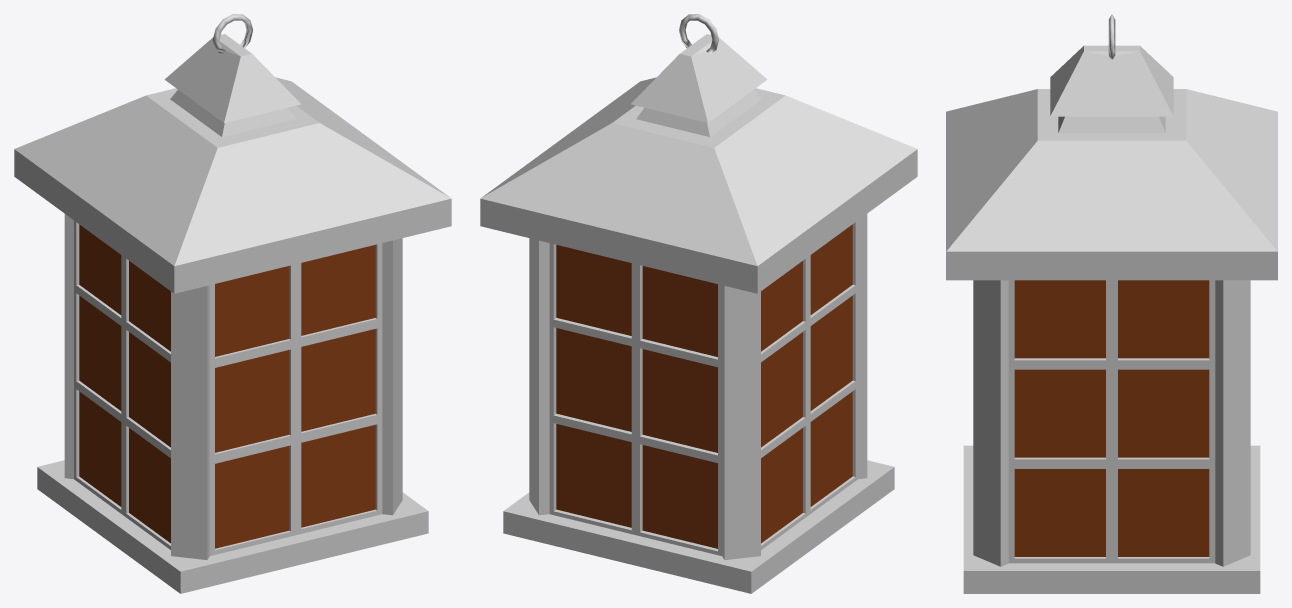
File: Lantern.fbx
3 renders of one model, left to right at view 1: azimuth 30°, elevation 25°; view 2: azimuth 150°, elevation 25°; view 3: azimuth 270°, elevation 25°, orthographic. The views are drawn at different scales.
Parts seen in each view (by area): view 1: Lantern, Lantern Emissive; view 2: Lantern, Lantern Emissive; view 3: Lantern, Lantern Emissive.
Boxes of the visible parts, bbox=[...] form: Lantern: bbox=[14, 14, 451, 593]; Lantern Emissive: bbox=[79, 224, 375, 548]; Lantern: bbox=[480, 14, 917, 593]; Lantern Emissive: bbox=[556, 224, 852, 548]; Lantern: bbox=[946, 14, 1277, 593]; Lantern Emissive: bbox=[1014, 280, 1209, 556].
Size of the model in its own units: 0.413 by 0.7076 by 0.413.
